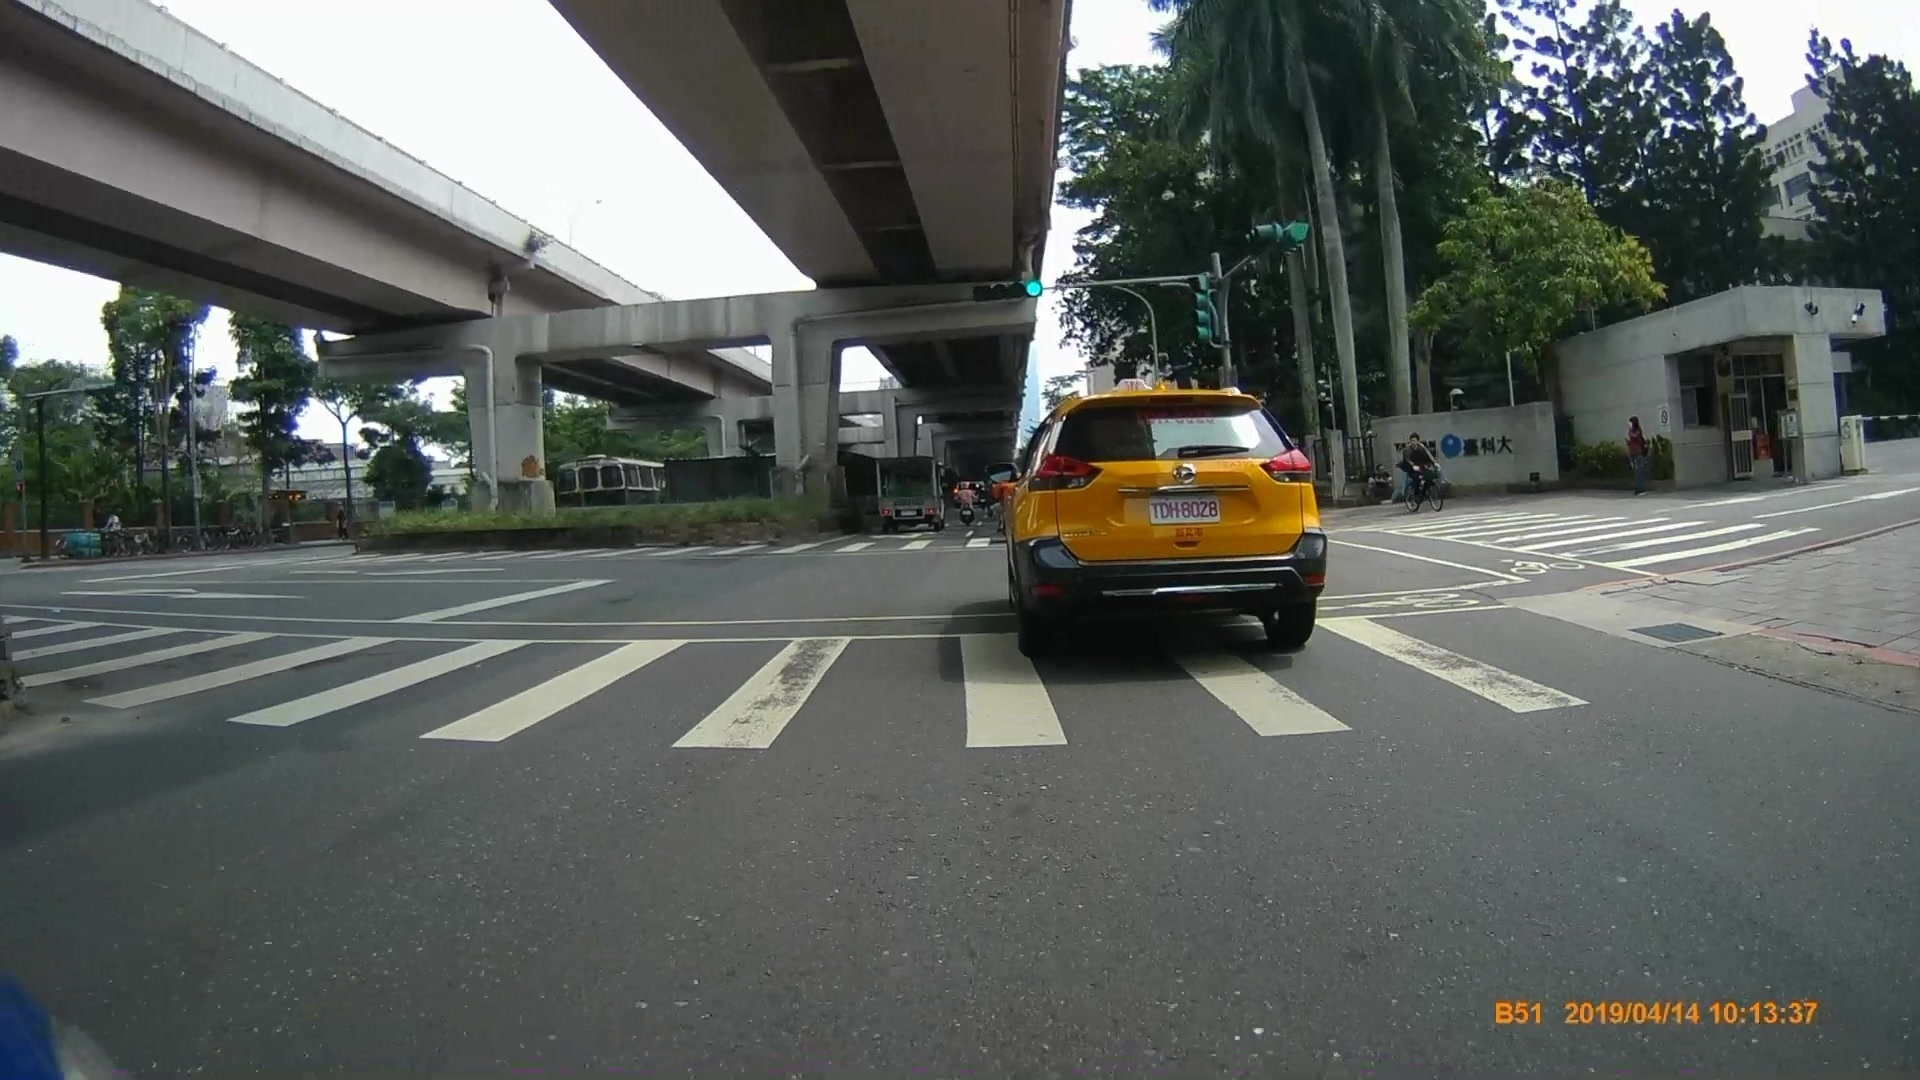License_plate: (1149, 495, 1220, 525)
